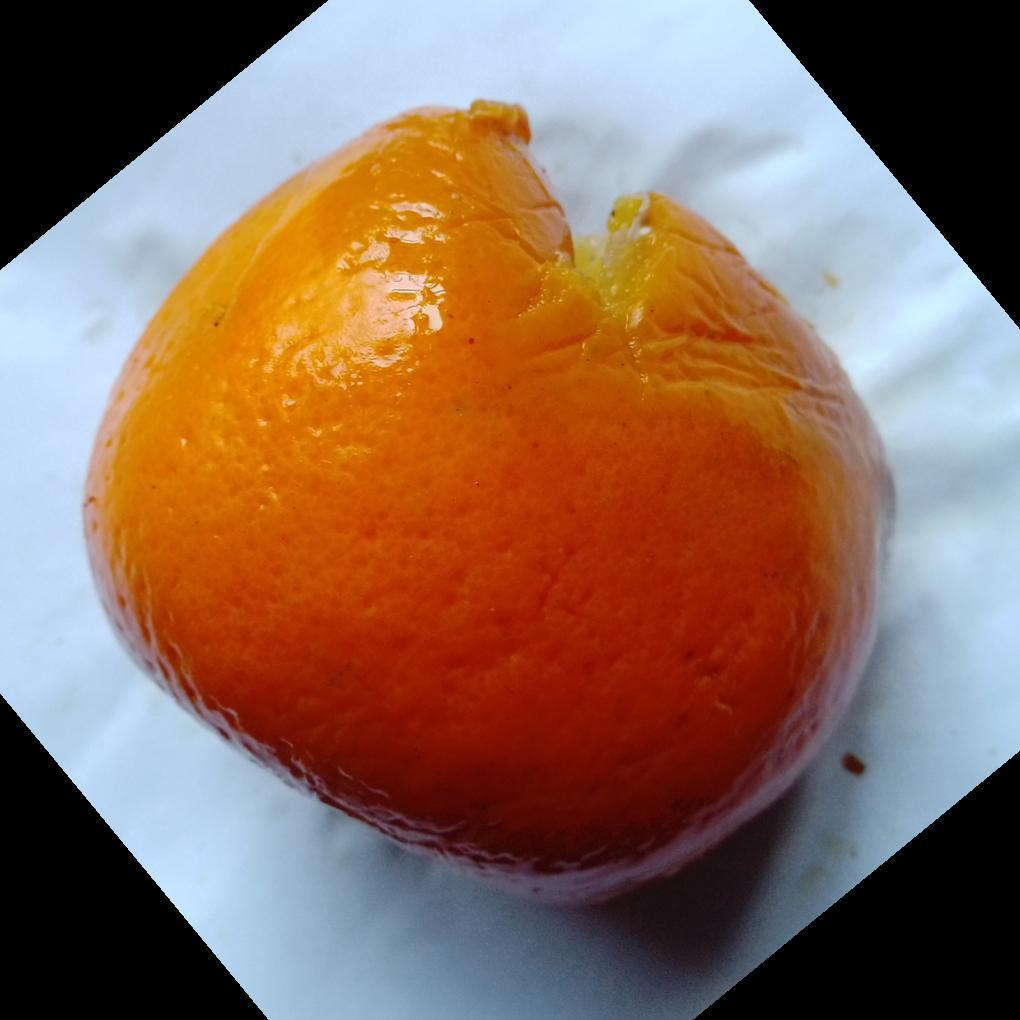FreshOrange: (78, 100, 897, 911)
